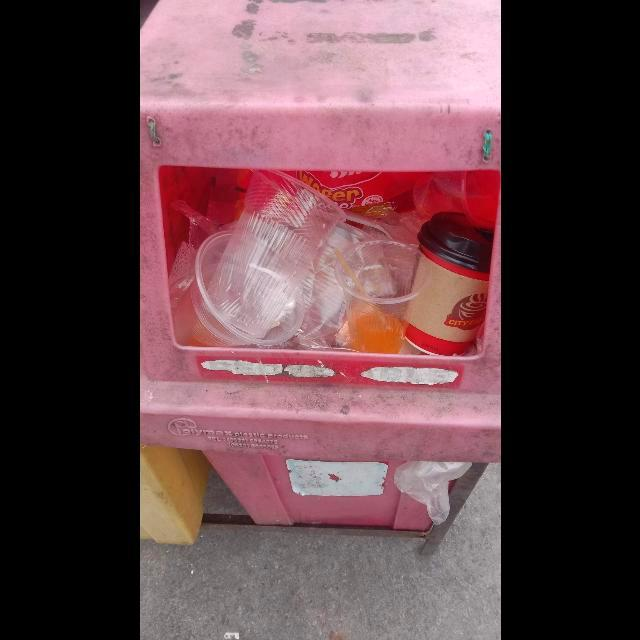cardboard: (401, 214, 492, 357)
food_wrapper: (281, 171, 431, 210)
plastic_container: (171, 170, 346, 349), (333, 240, 432, 354)
